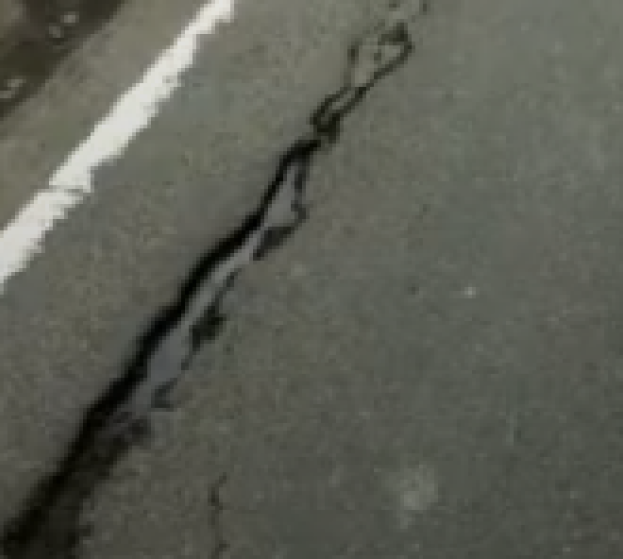Retak Memanjang: (15, 3, 433, 558)
